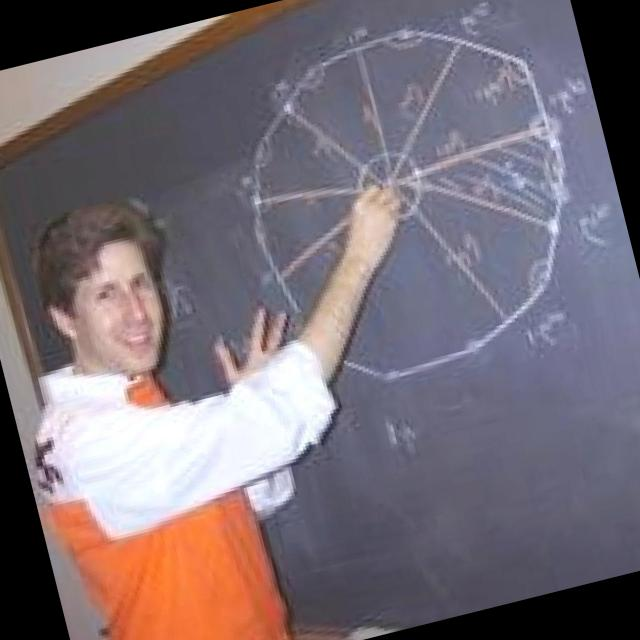no_vest: (34, 331, 309, 640)
